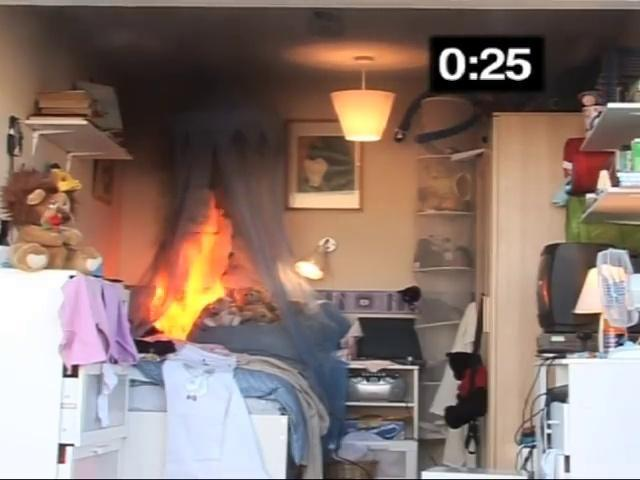fire: (158, 209, 217, 341)
smoke: (325, 80, 406, 155), (287, 246, 335, 296)
